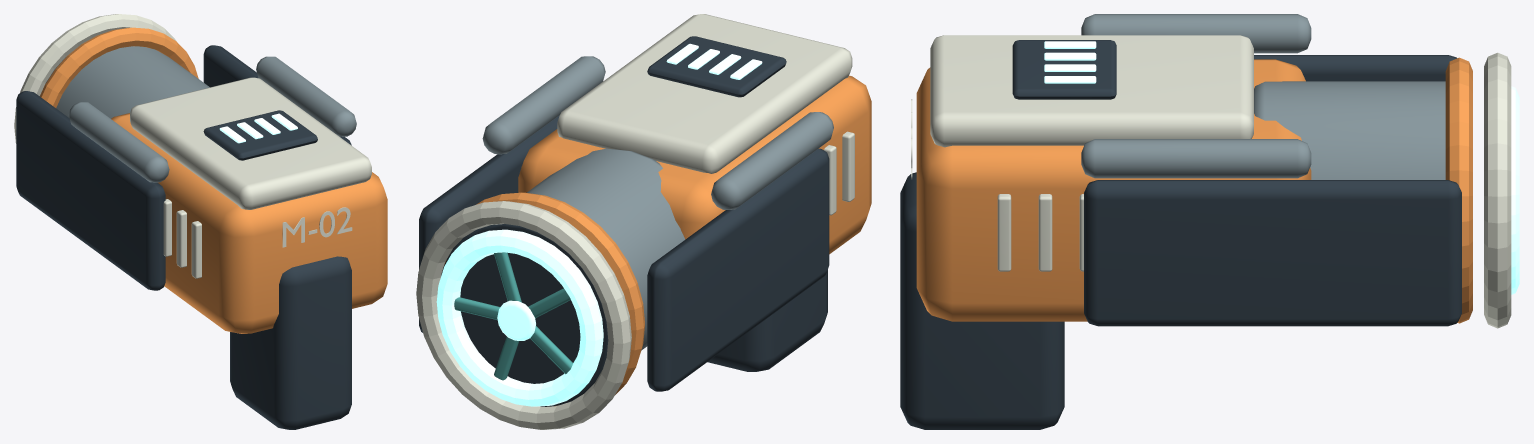
Rendered from manual_tool.glb.
3 views of the same model, side by side, from view 1: azimuth 30°, elevation 25°; view 2: azimuth 150°, elevation 25°; view 3: azimuth 270°, elevation 25° (orthographic). The views are drawn at different scales.
Parts seen in each view (by area): view 1: Insulated grip, Induction chassis, Ceramic upper shell, Vacuum chamber, Anim_Collar, Anim_Piston_-0.27, Anim_Piston_0.27, Charge bars; view 2: Insulated grip, Ceramic upper shell, Charge bars, Induction chassis, Vacuum chamber, Anim_Piston_-0.27, Anim_Piston_0.27, Anim_Collar, Anim_Fan; view 3: Insulated grip, Ceramic upper shell, Induction chassis, Vacuum chamber, Anim_Piston_0.27, Anim_Piston_-0.27, Anim_Collar, Charge bars.
Part boxes in pixels (bbox=[...]): Insulated grip: bbox=[16, 45, 351, 429]; Induction chassis: bbox=[111, 113, 387, 333]; Ceramic upper shell: bbox=[14, 14, 371, 278]; Vacuum chamber: bbox=[56, 46, 209, 118]; Anim_Collar: bbox=[40, 27, 198, 107]; Anim_Piston_-0.27: bbox=[68, 102, 169, 182]; Anim_Piston_0.27: bbox=[256, 56, 356, 136]; Charge bars: bbox=[219, 113, 297, 143]; Insulated grip: bbox=[419, 36, 829, 406]; Ceramic upper shell: bbox=[416, 14, 854, 429]; Charge bars: bbox=[436, 43, 762, 406]; Induction chassis: bbox=[518, 75, 871, 254]; Vacuum chamber: bbox=[526, 148, 685, 350]; Anim_Piston_-0.27: bbox=[711, 112, 833, 209]; Anim_Piston_0.27: bbox=[482, 56, 605, 154]; Anim_Collar: bbox=[444, 192, 644, 406]; Anim_Fan: bbox=[454, 252, 572, 380]; Insulated grip: bbox=[900, 40, 1461, 429]; Ceramic upper shell: bbox=[911, 35, 1511, 328]; Induction chassis: bbox=[916, 59, 1311, 321]; Vacuum chamber: bbox=[1254, 81, 1445, 179]; Anim_Piston_0.27: bbox=[1081, 139, 1311, 178]; Anim_Piston_-0.27: bbox=[1081, 14, 1311, 53]; Anim_Collar: bbox=[1445, 57, 1472, 323]; Charge bars: bbox=[1044, 41, 1519, 294].
Size of the model in its own units: 0.612 by 0.7115 by 1.13.
